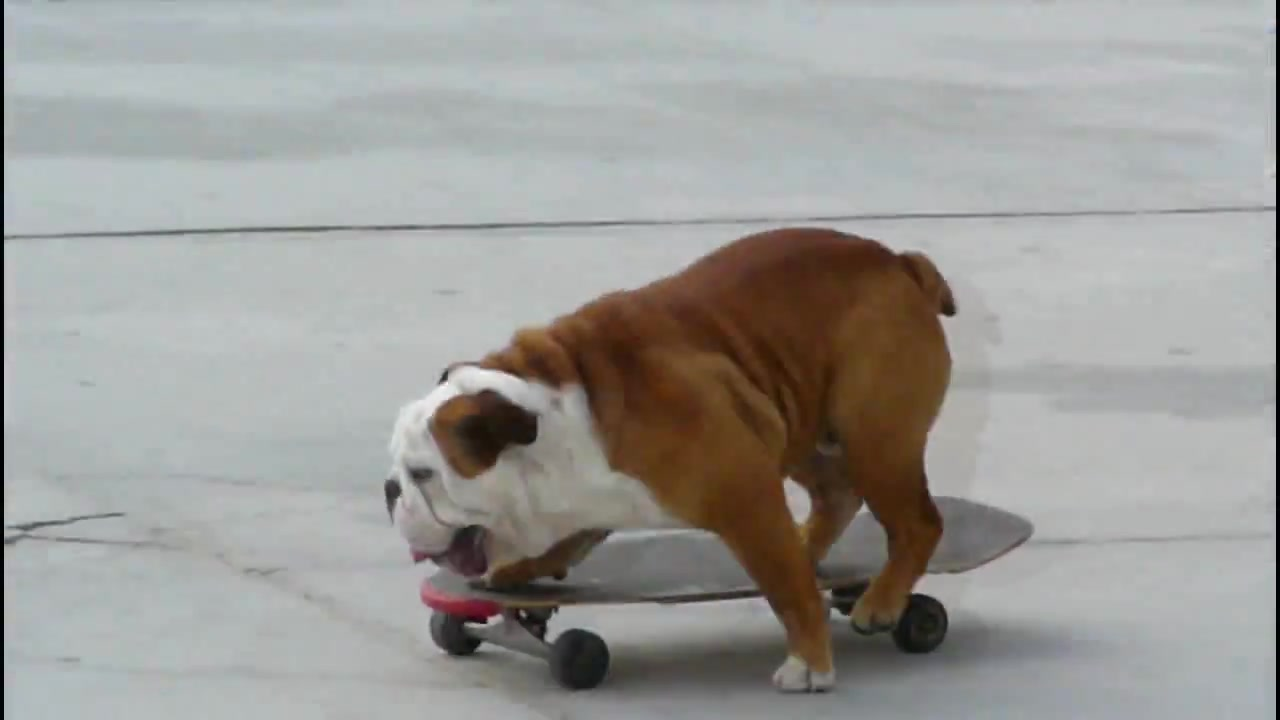dog: (380, 220, 963, 696)
